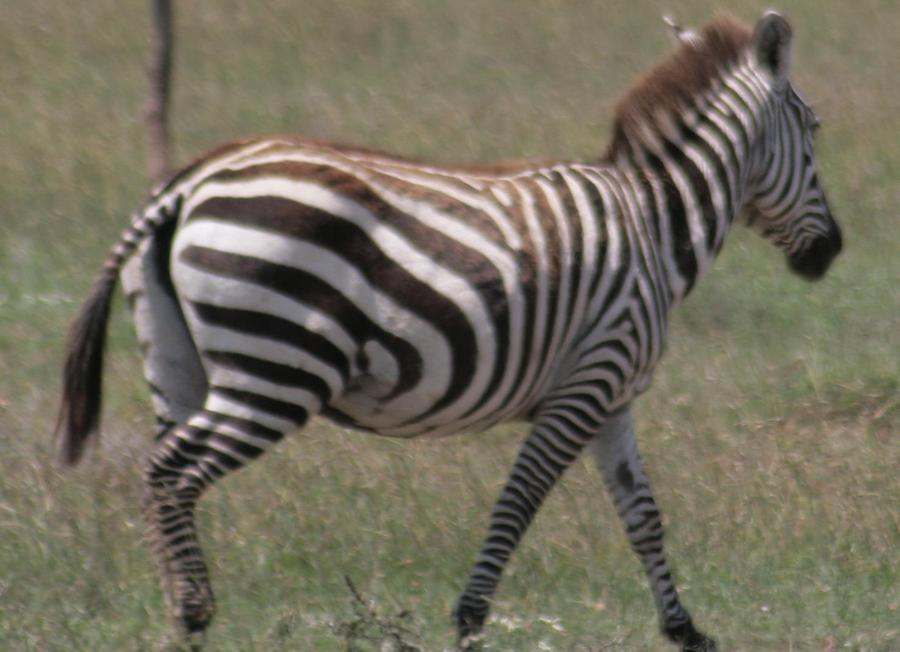zebra_plains: (173, 112, 705, 455)
